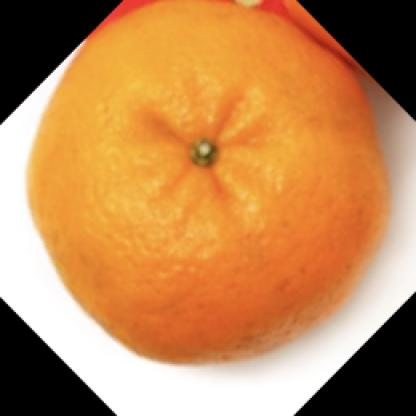fresh: (26, 3, 382, 367)
